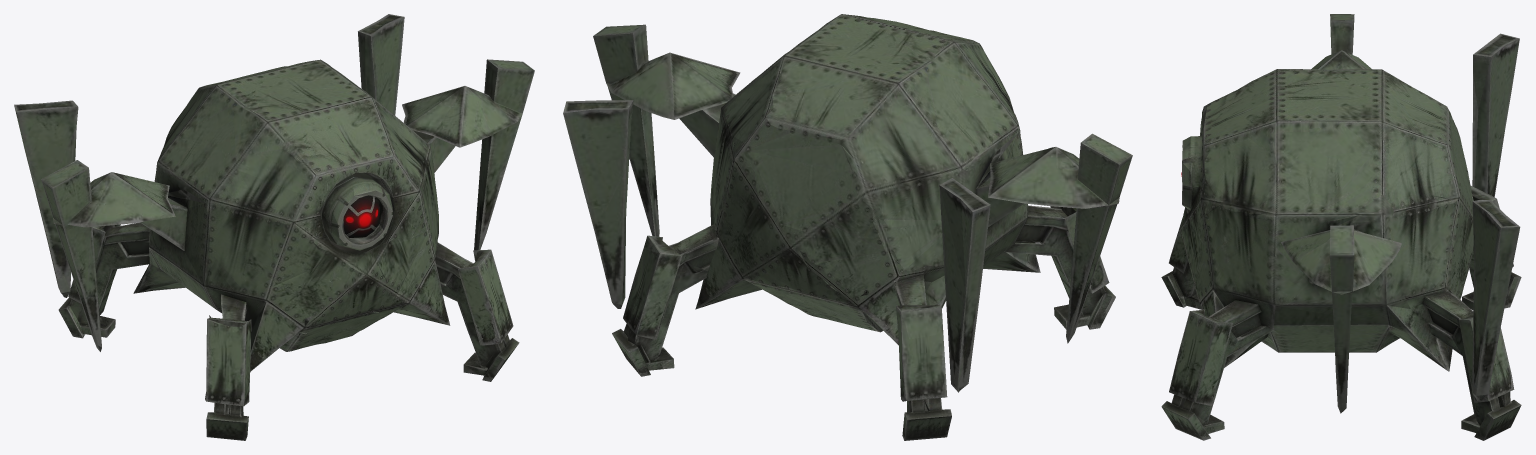
File: Enemy7-v2.glb
The picture shows the model from 3 angles, left to right: view 1: azimuth 30°, elevation 25°; view 2: azimuth 150°, elevation 25°; view 3: azimuth 270°, elevation 25°; orthographic projection. The views are drawn at different scales.
Visible parts, largest first — view 1: output_unwrapped; view 2: output_unwrapped; view 3: output_unwrapped.
Boxes of the visible parts, x1,y1,x2,y2 form: output_unwrapped: (14,14,534,440); output_unwrapped: (563,14,1132,440); output_unwrapped: (1161,14,1521,440).
Bounding box in the file's own units: 1.9 × 1 × 1.2.
Materials: 1 (1 with a texture image).
